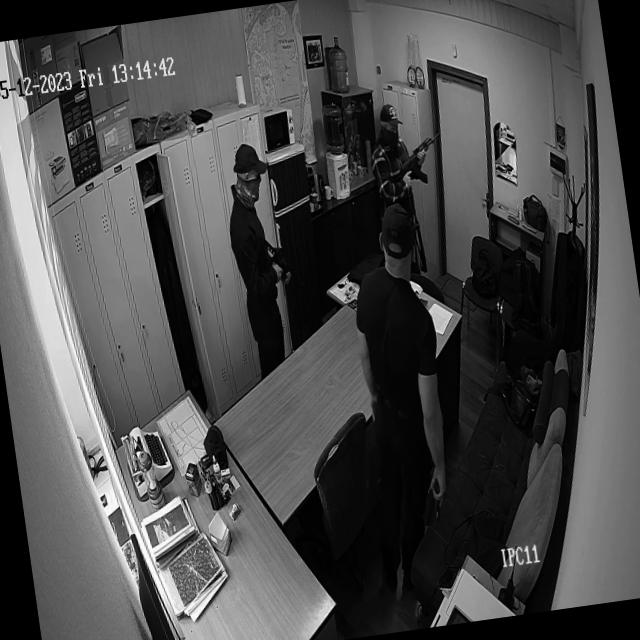gun: (392, 128, 446, 190), (262, 228, 296, 284), (420, 474, 448, 527)
person with a gun: (342, 213, 456, 529), (220, 144, 290, 370), (366, 100, 424, 226)
